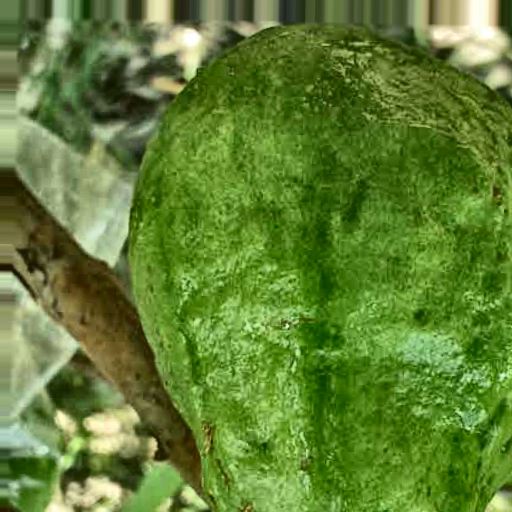guava: (83, 83, 487, 479)
